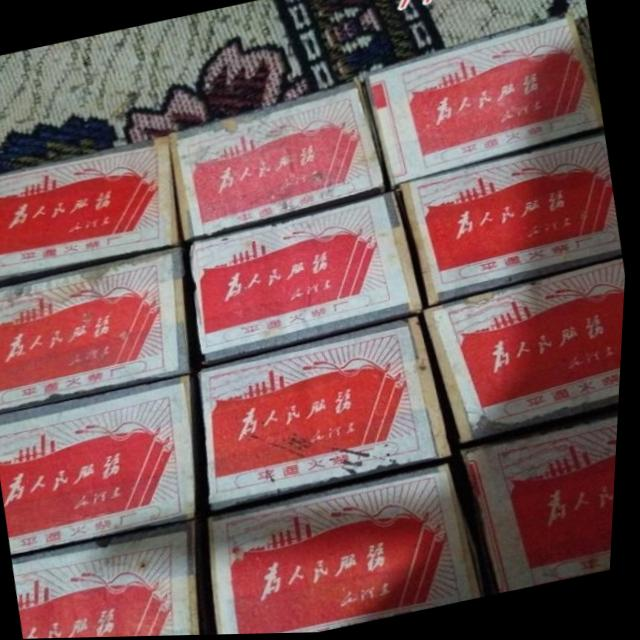box: (209, 461, 497, 636), (203, 318, 458, 510), (184, 189, 426, 366), (361, 17, 602, 185), (399, 131, 623, 307), (428, 258, 628, 444), (0, 370, 199, 554), (171, 81, 392, 241), (0, 246, 194, 413), (461, 407, 623, 596), (0, 136, 177, 279), (23, 521, 213, 639)
